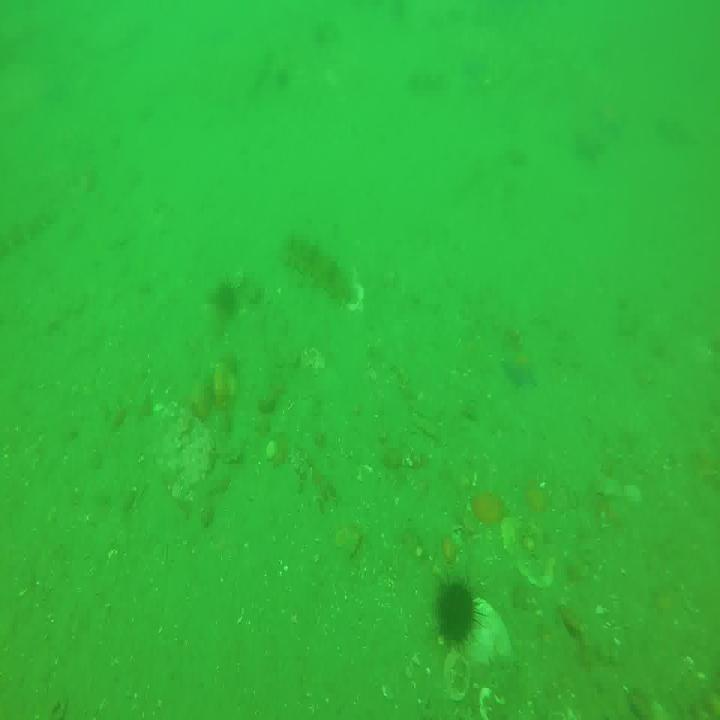echinus: (439, 584, 480, 641), (220, 279, 242, 323)
holothurian: (282, 237, 357, 308), (406, 67, 448, 99)
starfish: (500, 341, 540, 394), (571, 122, 608, 168), (461, 47, 495, 83)
